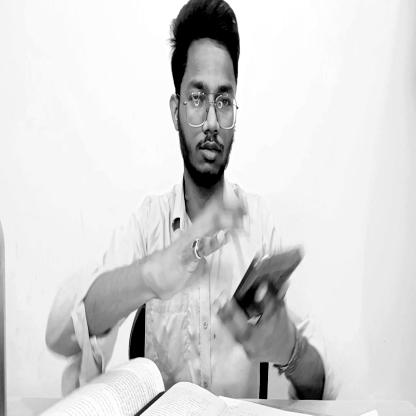Distracted: (167, 3, 246, 190)
